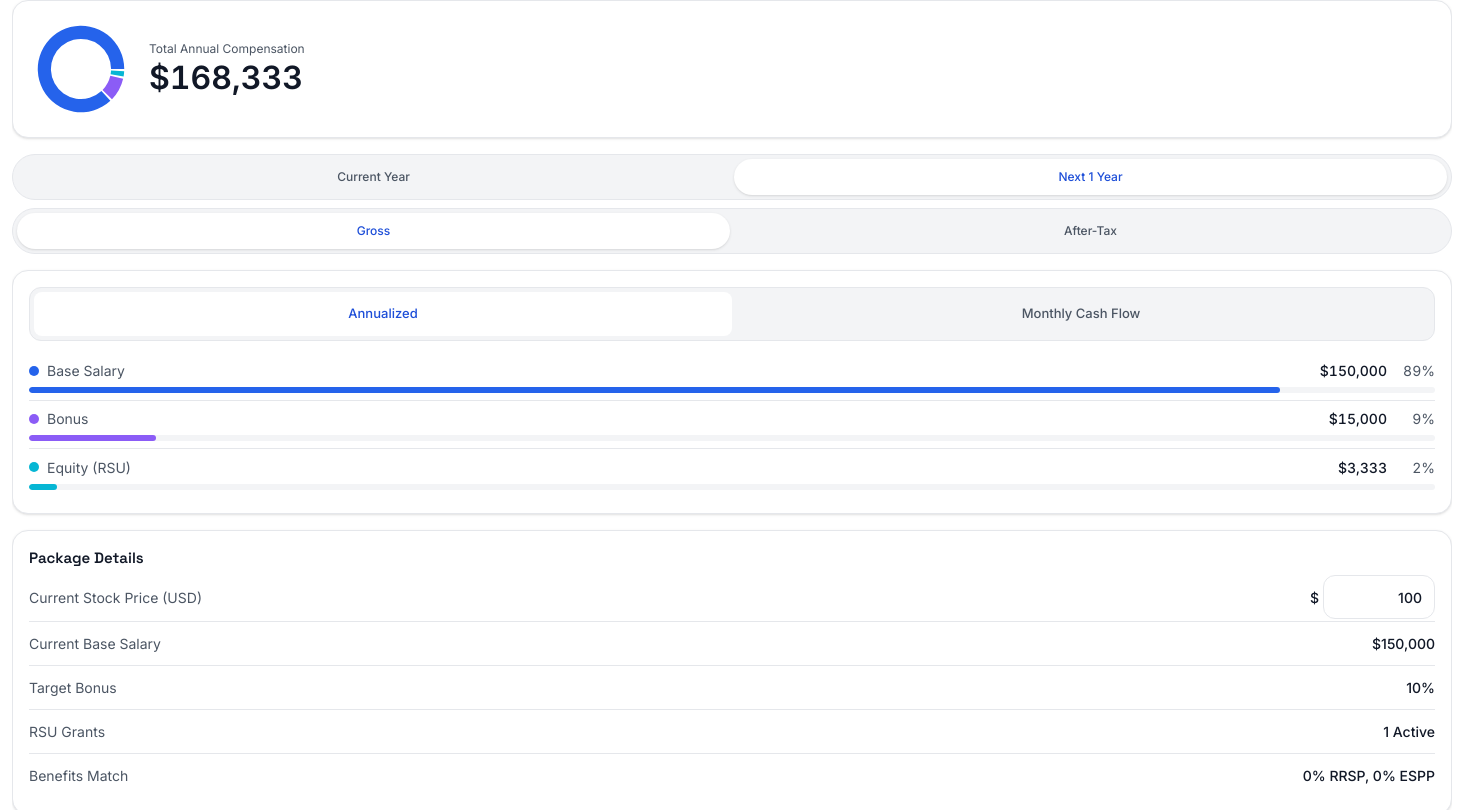
Test case: CompensationMobile › switches the breakdown to the Monthly Cash Flow view
Step 1. Click the button "Monthly Cash Flow" → (1081, 314), box x1=732 y1=292 x2=1430 y2=336
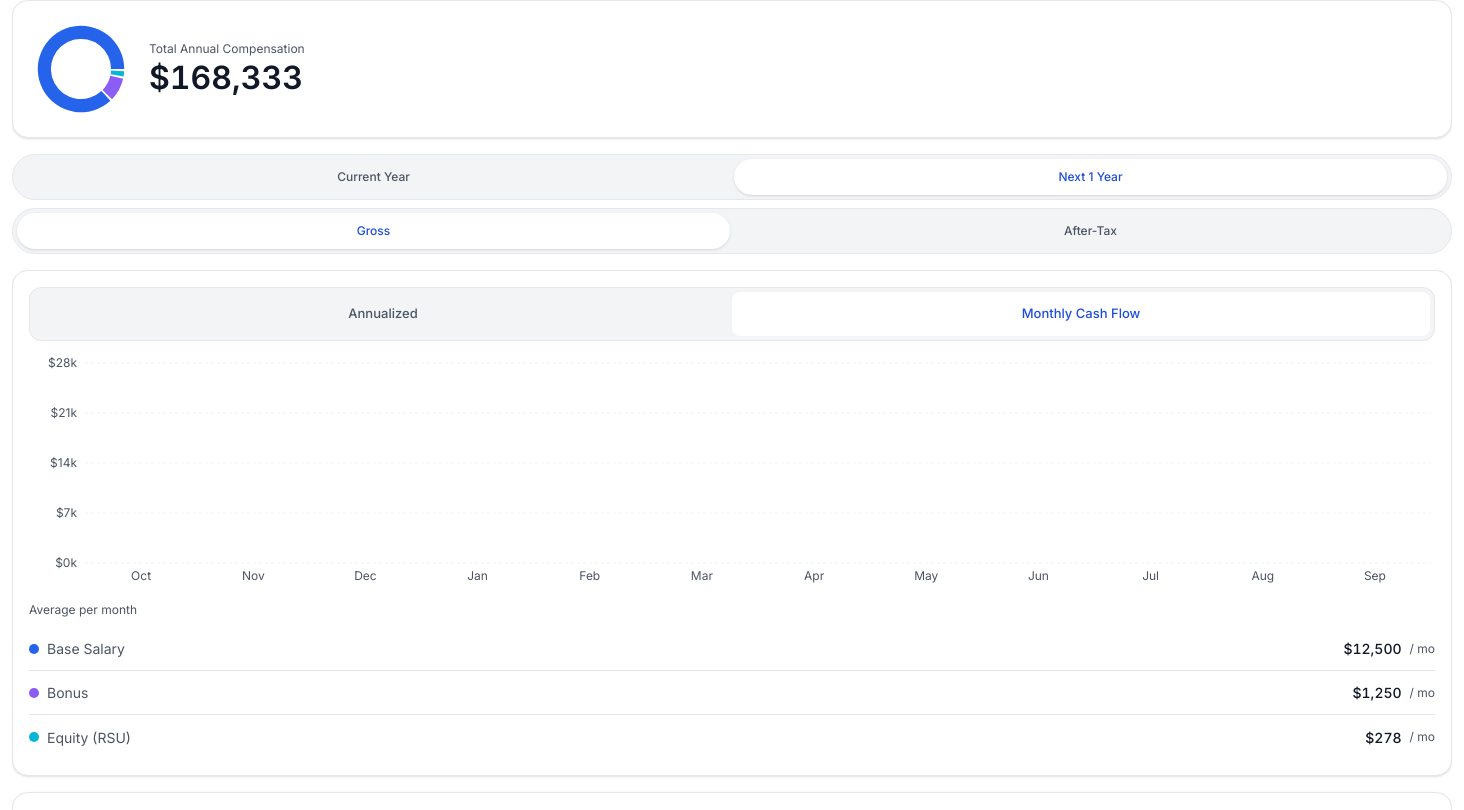
Expected: the text "Average per month" is shown, x1=29 y1=602 x2=137 y2=617
Expected: the text "/ mo" next to "$12,500" is shown, x1=1410 y1=640 x2=1435 y2=656
